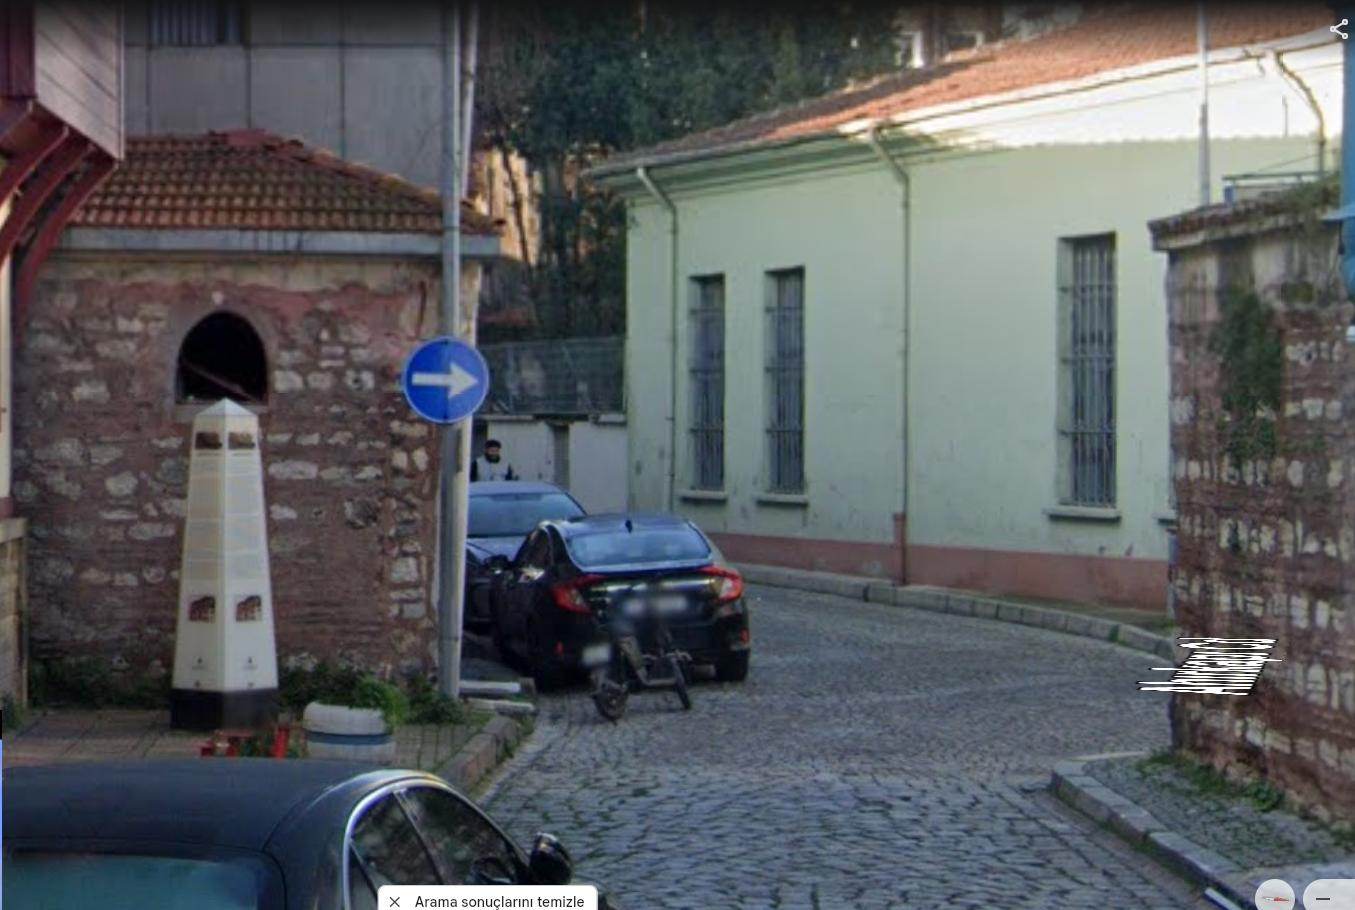turnright: (404, 342, 488, 417)
